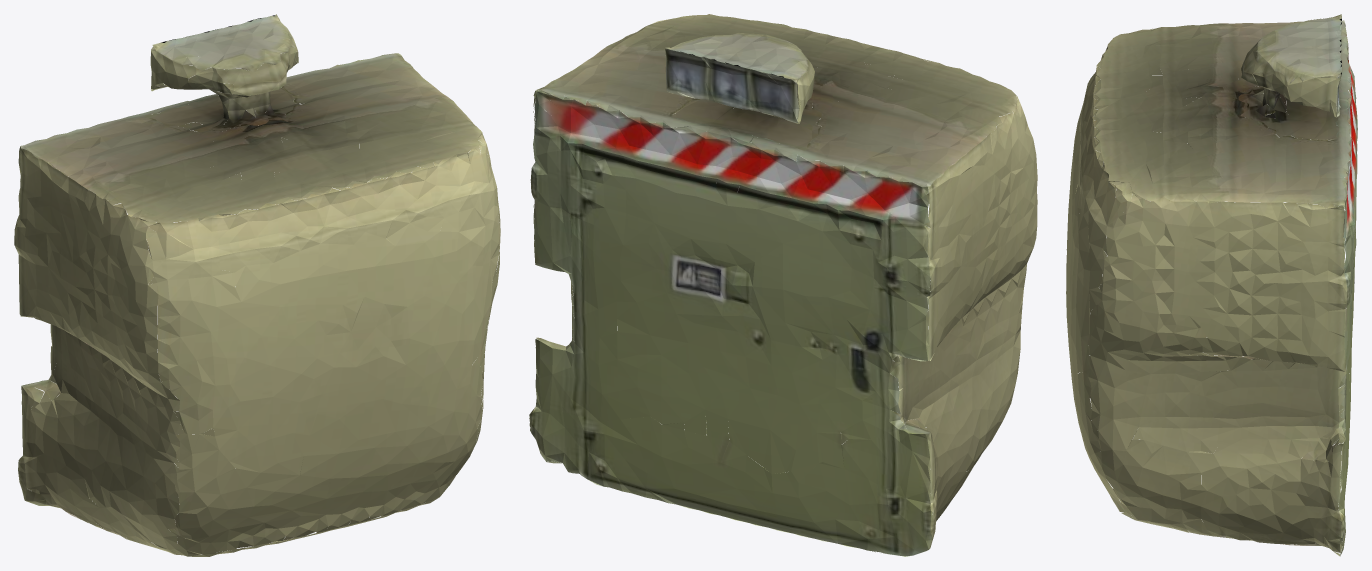
Rendered from exit.glb.
3 views of the same model, side by side, from view 1: azimuth 30°, elevation 25°; view 2: azimuth 150°, elevation 25°; view 3: azimuth 270°, elevation 25° (orthographic). The views are drawn at different scales.
Parts seen in each view (by area): view 1: world; view 2: world; view 3: world.
Boxes of the visible parts, left/top/right/bottom form: world: left=14, top=14, right=500, bottom=556; world: left=529, top=14, right=1037, bottom=556; world: left=1066, top=14, right=1357, bottom=556.
Size of the model in its own units: 0.7865 by 0.845 by 0.5104.
Materials: 1 (1 with a texture image).
